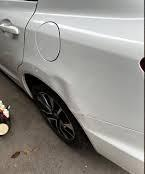dent: (48, 69, 90, 122)
